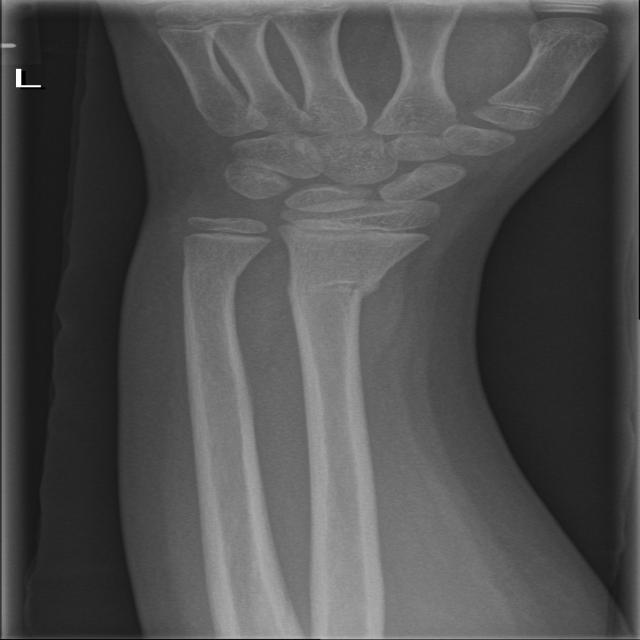radius fracture: (247, 248, 449, 328)
ulna fracture: (206, 230, 286, 314)
